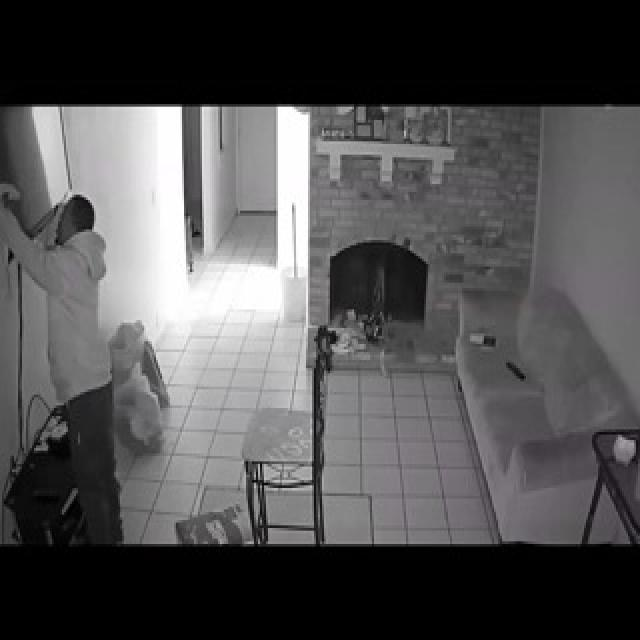thief: (36, 181, 124, 448)
